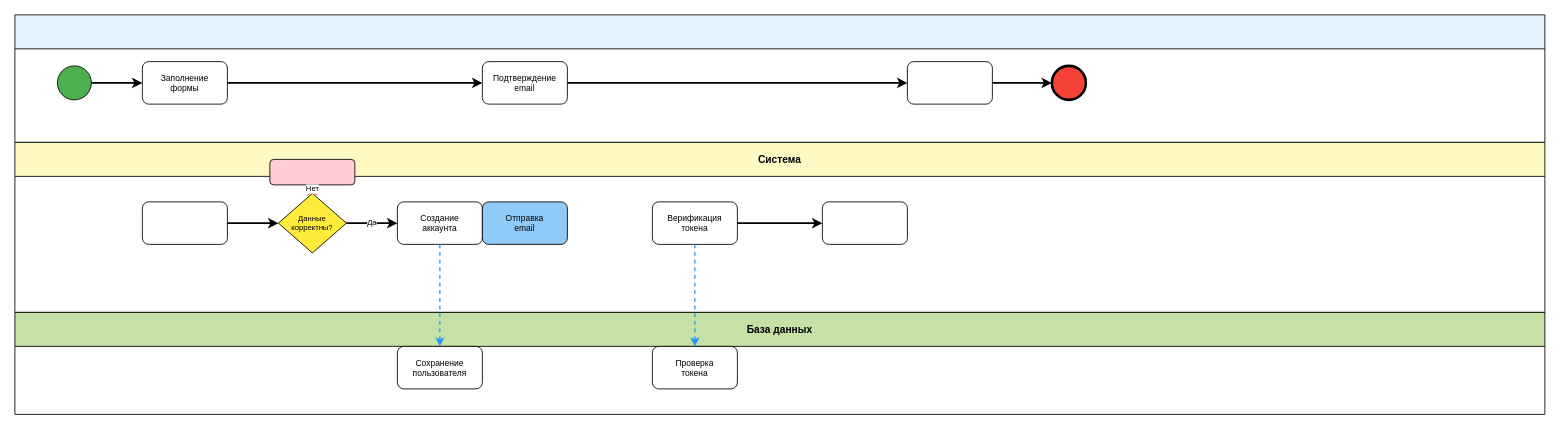
The diagram is 1560 pixels wide and 429 high, and some of its shapes have lost their labels. The box of each missing label's shape, as (x1, y1, x2, y2) in pixels:
Валидация данных: (142, 201, 227, 244)
Вход в систему: (907, 61, 992, 104)
Генерация JWT: (822, 201, 907, 244)
Ошибка: (269, 159, 355, 185)
Пациент: (14, 14, 1545, 142)
